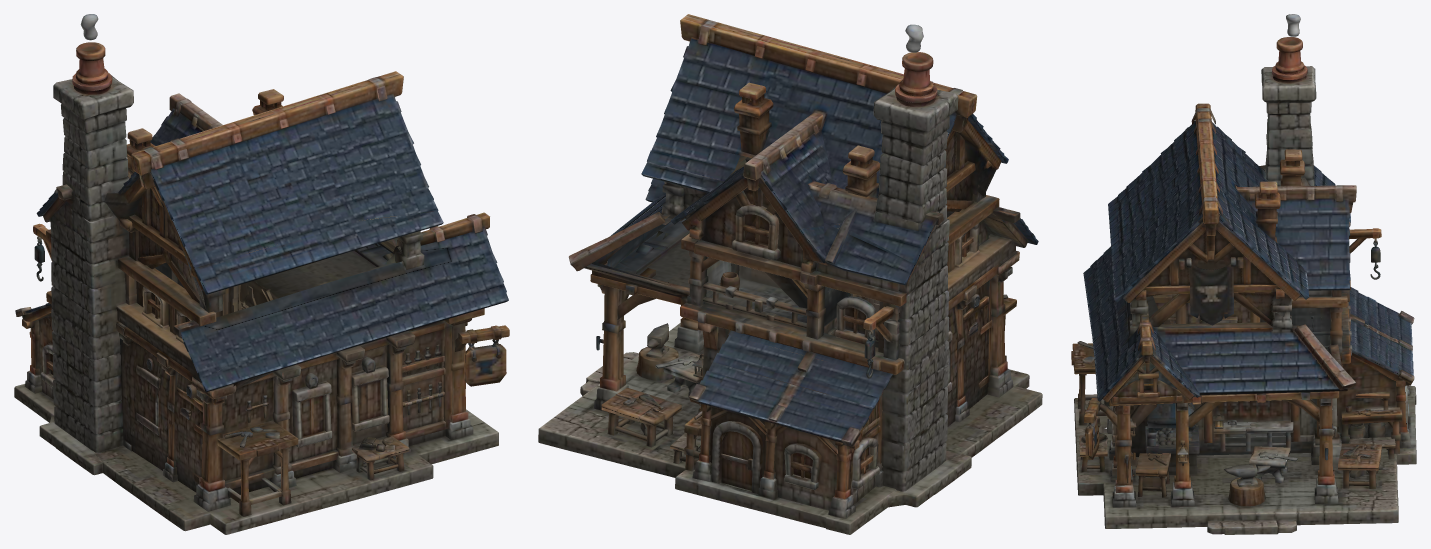
The model's file is jt_cabin_a.glb.
3 renders of one model, left to right at view 1: azimuth 30°, elevation 25°; view 2: azimuth 150°, elevation 25°; view 3: azimuth 270°, elevation 25°, orthographic. The views are drawn at different scales.
Parts seen in each view (by area): view 1: tripo_node_3d6c4ee4; view 2: tripo_node_3d6c4ee4; view 3: tripo_node_3d6c4ee4.
Part boxes in pixels (x1,y1,x2,y2): tripo_node_3d6c4ee4: [14, 14, 509, 534]; tripo_node_3d6c4ee4: [538, 14, 1042, 534]; tripo_node_3d6c4ee4: [1071, 14, 1416, 534].
Bounding box in the file's own units: 0.8433 × 0.9995 × 0.8081.
Materials: 1 (1 with a texture image).
